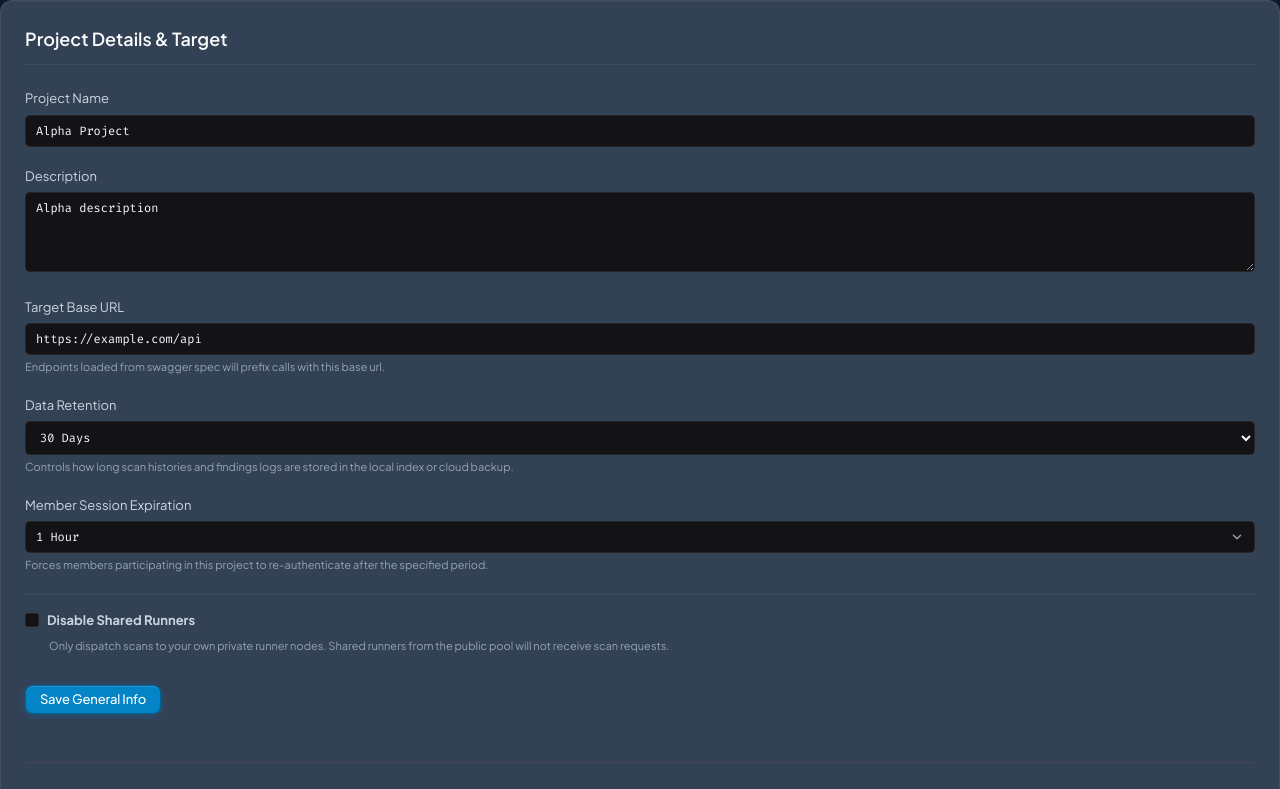
Scenario: GeneralTab Component › saves general settings successfully and displays success banner
Replace the text in the field showing "Alpha Project" below "Project Name" with "Alpha Renamed": (640, 130) [25,114,1255,146]
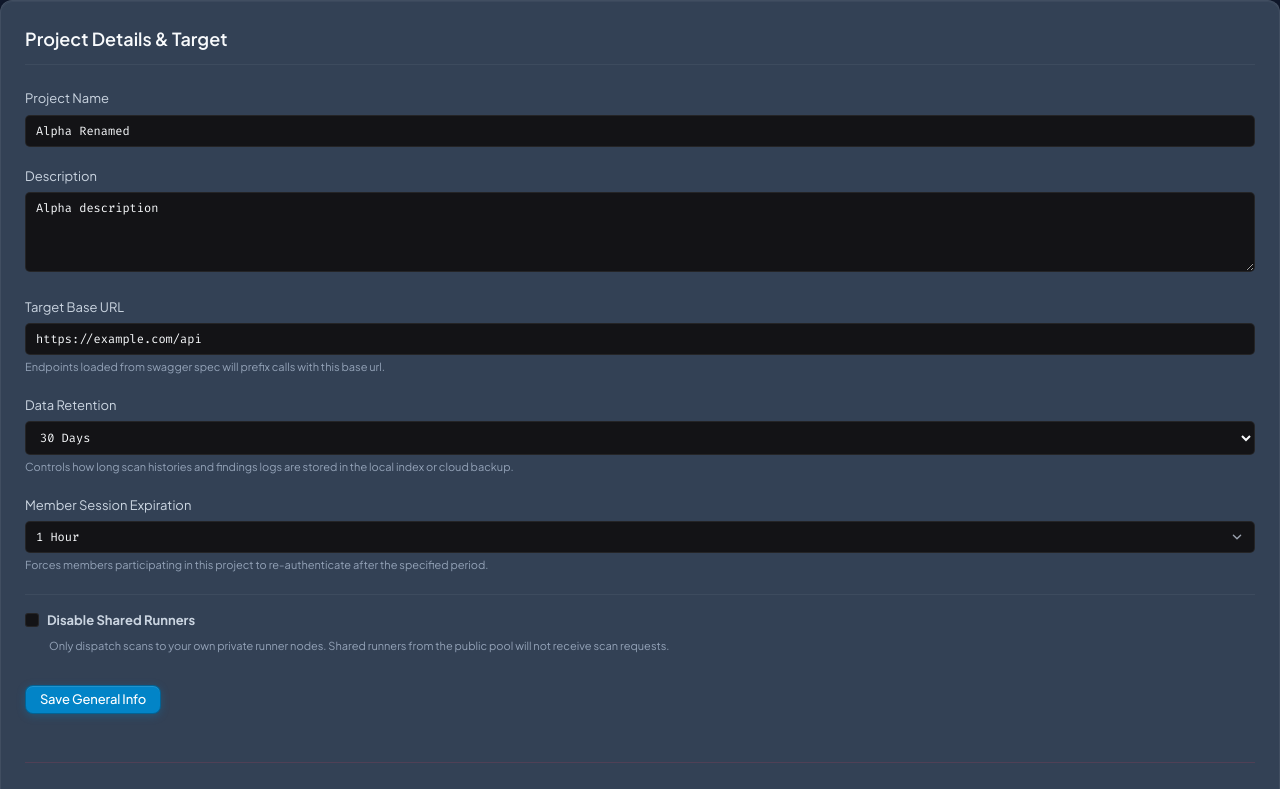
Replace the text in the text box showing "Alpha description" with "New description": (640, 232) [25,192,1255,272]
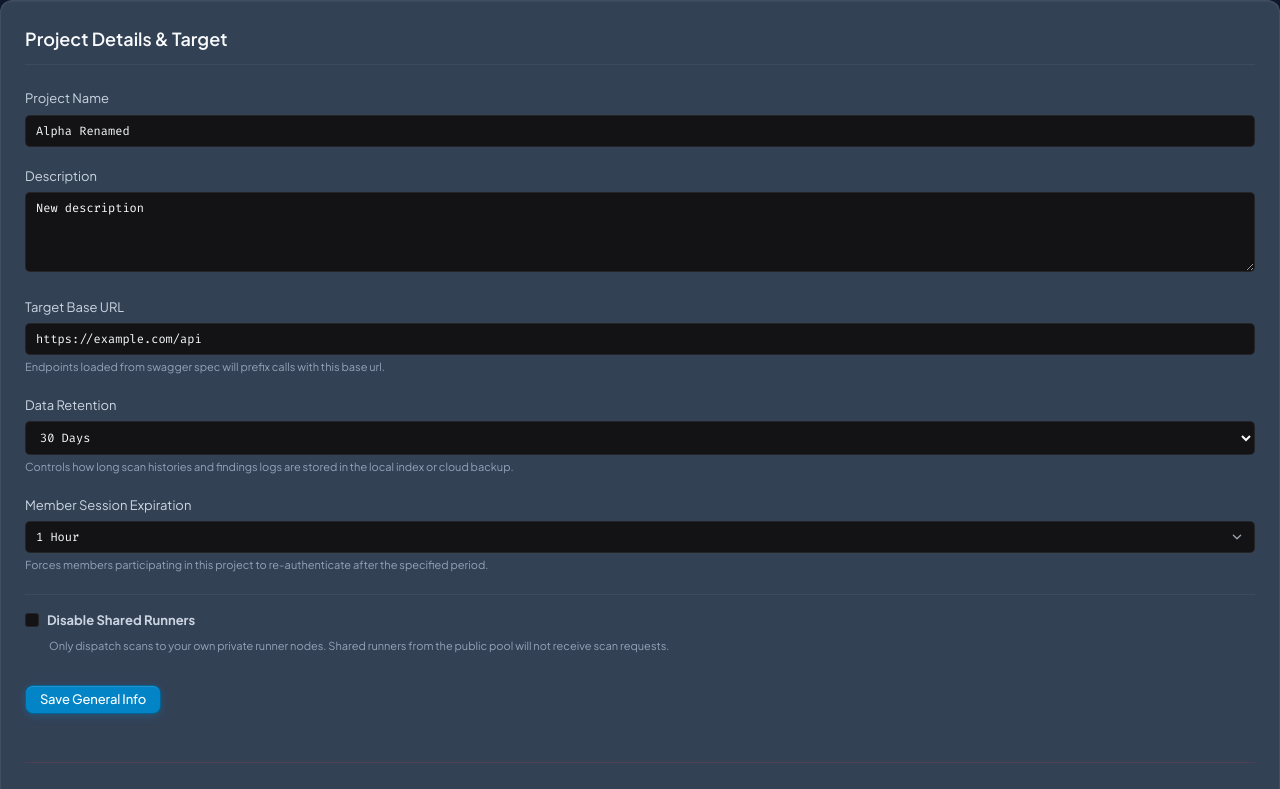
Replace the text in the field showing "https://example.com/api" below "Target Base URL" with "https://new-api.example.com/": (640, 339) [25,323,1255,355]
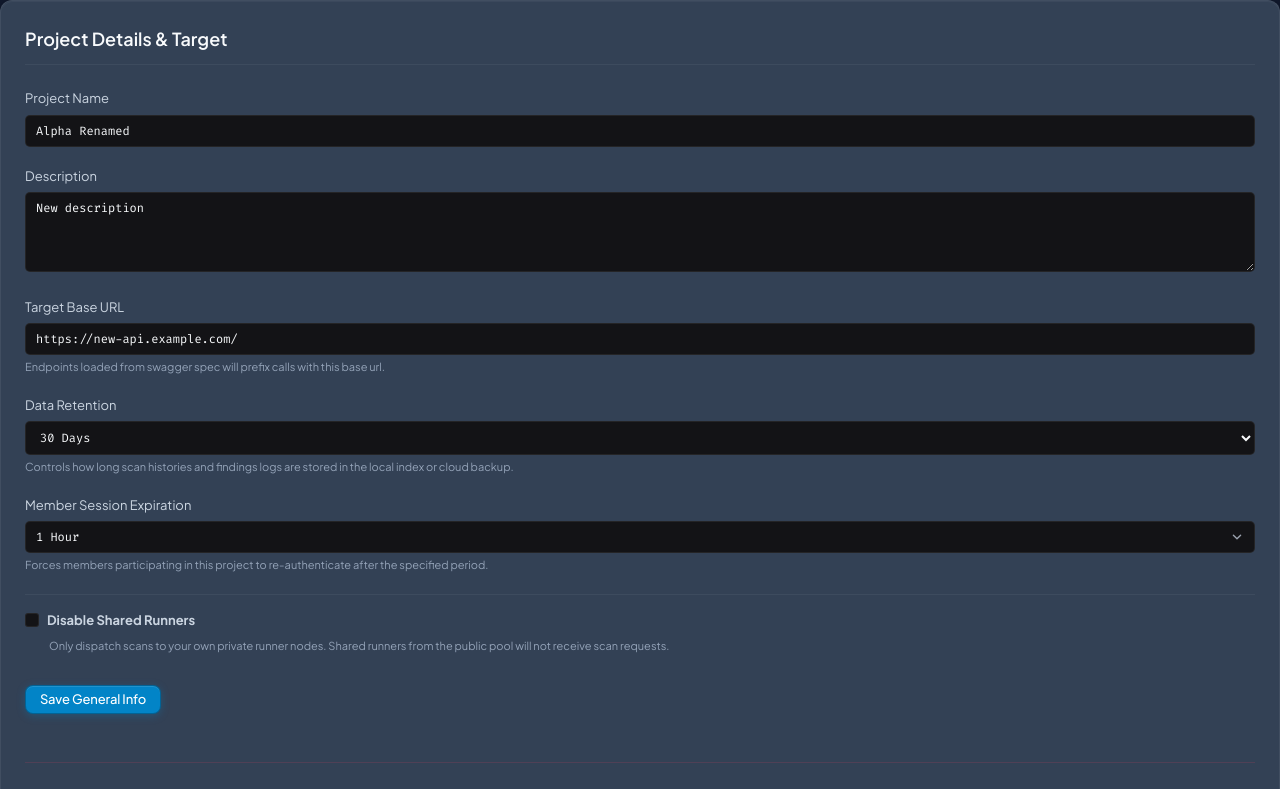
Click the button "Save General Info": (93, 700) [25,685,161,714]
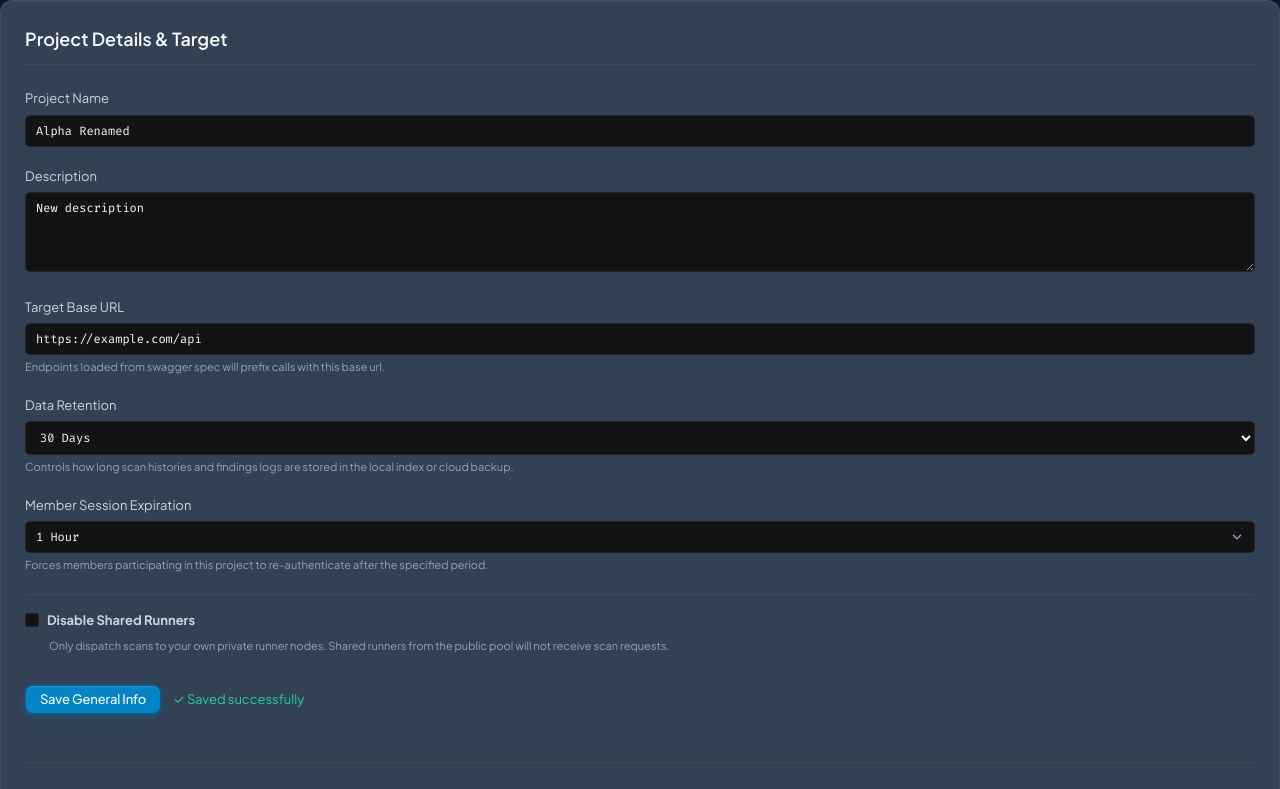
expect the text "✓ Saved successfully" is shown: met, box [173,690,304,710]
